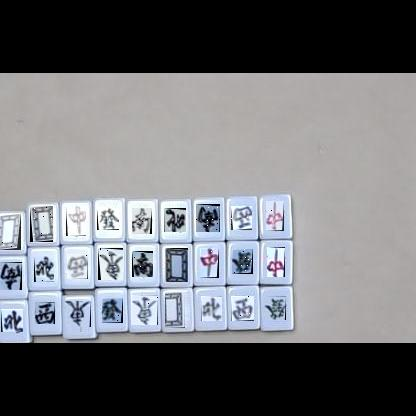1z: (131, 295, 158, 325), (98, 248, 123, 280), (65, 302, 91, 332)
2z: (196, 204, 220, 232), (0, 262, 22, 290), (132, 251, 153, 277), (132, 208, 152, 234)
3z: (231, 296, 254, 321), (67, 254, 88, 279), (231, 206, 252, 230), (35, 302, 55, 324)
4z: (164, 208, 186, 232), (201, 296, 222, 321), (34, 256, 54, 282), (1, 309, 23, 332)
5z: (166, 292, 190, 328), (30, 206, 53, 242), (165, 248, 188, 282), (0, 214, 21, 250)
6z: (264, 296, 286, 320), (232, 249, 253, 274), (102, 298, 123, 323), (97, 208, 119, 230)
7z: (66, 207, 86, 236), (200, 249, 219, 278), (266, 201, 284, 231), (267, 247, 285, 277)
